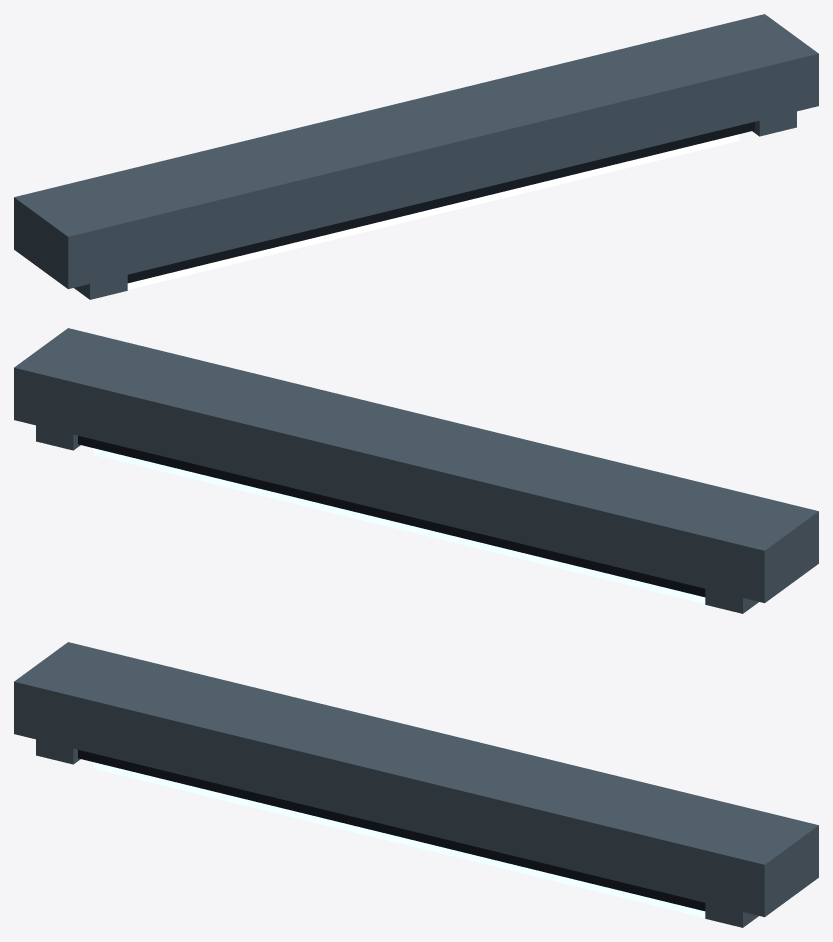
The picture shows the model from 3 angles, top to bottom: view 1: azimuth 30°, elevation 25°; view 2: azimuth 150°, elevation 25°; view 3: azimuth 330°, elevation 25°; orthographic projection.
Visible parts, largest first — view 1: P16-01; view 2: P16-01; view 3: P16-01.
Boxes of the visible parts, x1=… form: P16-01: x1=14, y1=14, x2=818, y2=299; P16-01: x1=14, y1=328, x2=818, y2=613; P16-01: x1=14, y1=642, x2=818, y2=927.
Bounding box in the file's own units: 1.2 × 0.12 × 0.15.
